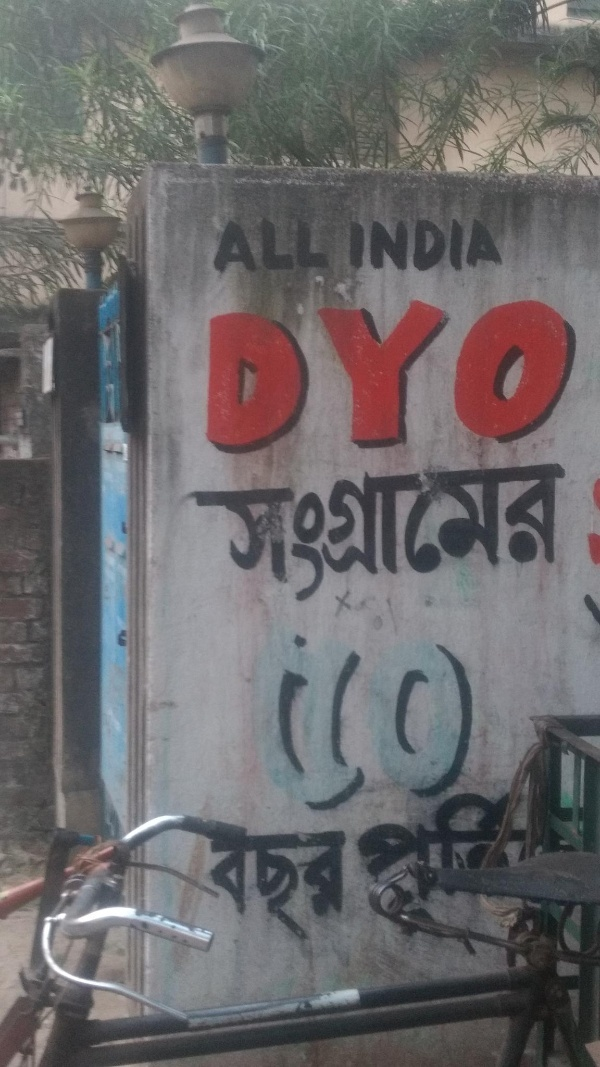text: (273, 624, 288, 818), (289, 624, 304, 818), (305, 624, 320, 818), (321, 624, 336, 818), (337, 624, 352, 818), (353, 624, 368, 818), (369, 624, 384, 818), (385, 624, 400, 818), (401, 624, 416, 818), (417, 624, 432, 818), (433, 624, 448, 818), (449, 624, 464, 818), (209, 286, 224, 474), (225, 286, 240, 474), (241, 286, 256, 474), (257, 286, 272, 474), (273, 286, 288, 474), (289, 286, 304, 474), (305, 286, 320, 474), (321, 286, 336, 474), (337, 286, 352, 474), (353, 286, 368, 474), (369, 286, 384, 474), (385, 286, 400, 474), (401, 286, 416, 474), (417, 286, 432, 474), (433, 286, 448, 474), (449, 286, 464, 474), (465, 286, 480, 474), (481, 286, 496, 474), (497, 286, 512, 474), (513, 286, 528, 474), (529, 286, 544, 474), (545, 286, 560, 474), (561, 286, 576, 474), (177, 441, 192, 610), (193, 441, 208, 610), (209, 441, 224, 610), (225, 441, 240, 610), (241, 441, 256, 610), (257, 441, 272, 610), (273, 441, 288, 610), (289, 441, 304, 610), (305, 441, 320, 610), (321, 441, 336, 610), (337, 441, 352, 610), (353, 441, 368, 610), (369, 441, 384, 610), (385, 441, 400, 610), (401, 441, 416, 610), (417, 441, 432, 610), (433, 441, 448, 610), (449, 441, 464, 610), (465, 441, 480, 610), (481, 441, 496, 610), (497, 441, 512, 610), (513, 441, 528, 610), (529, 441, 544, 610), (545, 441, 560, 610), (561, 441, 576, 610), (465, 624, 477, 818), (577, 286, 589, 474), (225, 812, 240, 950), (241, 812, 256, 950), (257, 812, 272, 950), (273, 812, 288, 950), (289, 812, 304, 950), (305, 812, 320, 950), (321, 812, 336, 950), (337, 812, 352, 950), (210, 812, 224, 950), (369, 780, 384, 908), (385, 780, 400, 908), (401, 780, 416, 908), (417, 780, 432, 908), (433, 780, 448, 908), (449, 780, 464, 908), (465, 780, 480, 908), (481, 780, 496, 908), (497, 780, 512, 908), (513, 780, 528, 908), (529, 780, 544, 908), (166, 441, 176, 610), (360, 780, 368, 908), (267, 624, 272, 818), (353, 812, 360, 950), (225, 214, 240, 274), (241, 214, 256, 274), (257, 214, 272, 274), (273, 214, 288, 274), (289, 214, 304, 274), (305, 214, 320, 274), (321, 214, 336, 274), (353, 217, 368, 275), (369, 217, 384, 275), (385, 217, 400, 275), (401, 217, 416, 275), (417, 217, 432, 275), (433, 217, 448, 275), (449, 217, 464, 275), (465, 217, 480, 275), (481, 217, 496, 275), (213, 214, 224, 274), (497, 217, 508, 275), (545, 780, 548, 908), (206, 286, 208, 474), (348, 217, 352, 275)
